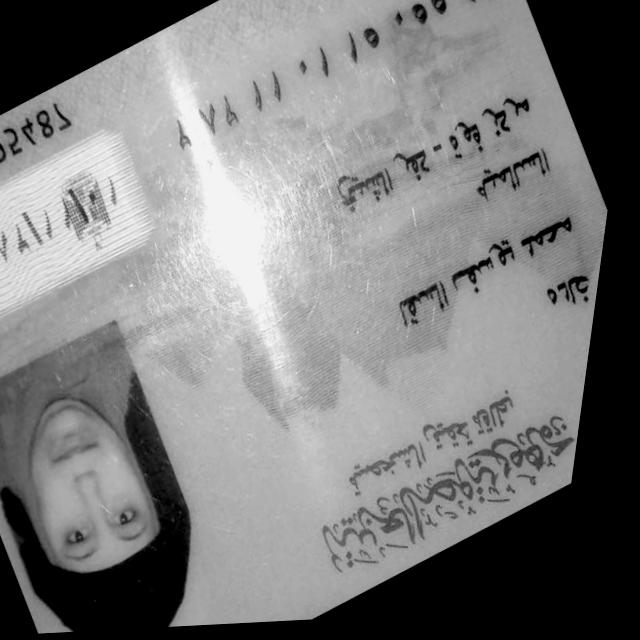front: (0, 0, 607, 634)
